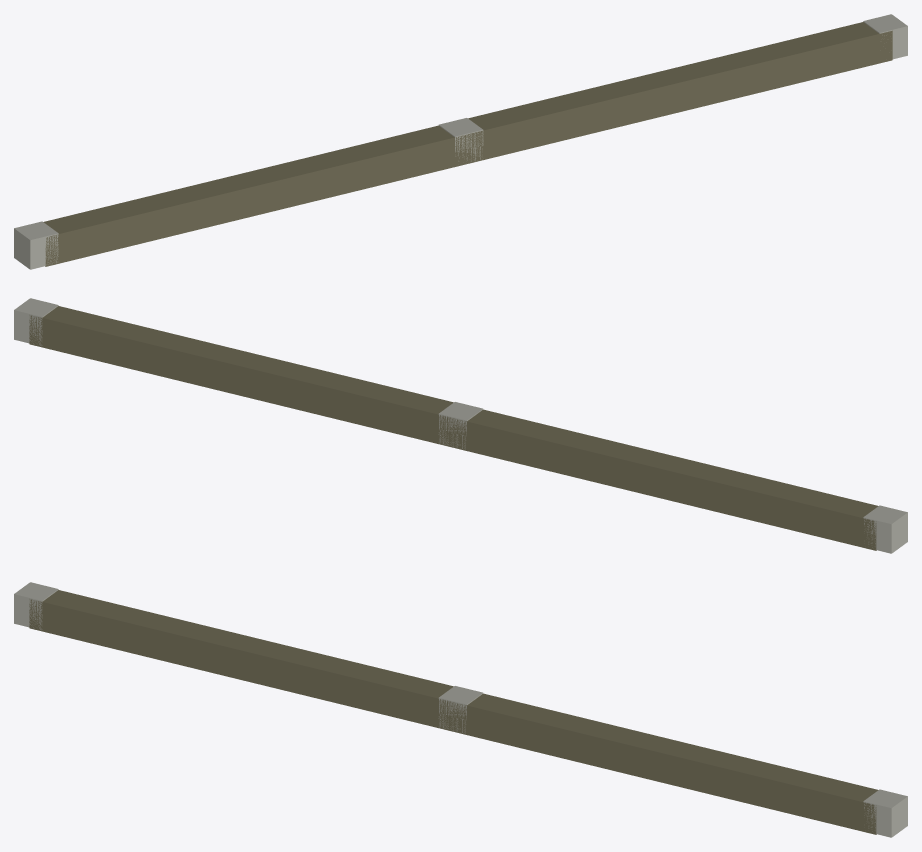
The model's file is SM_Manguera_v0_Recta_LOD1.fbx.
3 views of the same model, one above another, from view 1: azimuth 30°, elevation 25°; view 2: azimuth 150°, elevation 25°; view 3: azimuth 330°, elevation 25° (orthographic).
Visible parts, largest first — view 1: SM_farp_betera_v5_LOD1; view 2: SM_farp_betera_v5_LOD1; view 3: SM_farp_betera_v5_LOD1.
Boxes of the visible parts, x1,y1,x2,y2 form: SM_farp_betera_v5_LOD1: (14,14,907,269); SM_farp_betera_v5_LOD1: (14,298,907,553); SM_farp_betera_v5_LOD1: (14,582,907,837).
Size of the model in its own units: 10.54 by 0.35 by 0.34.
